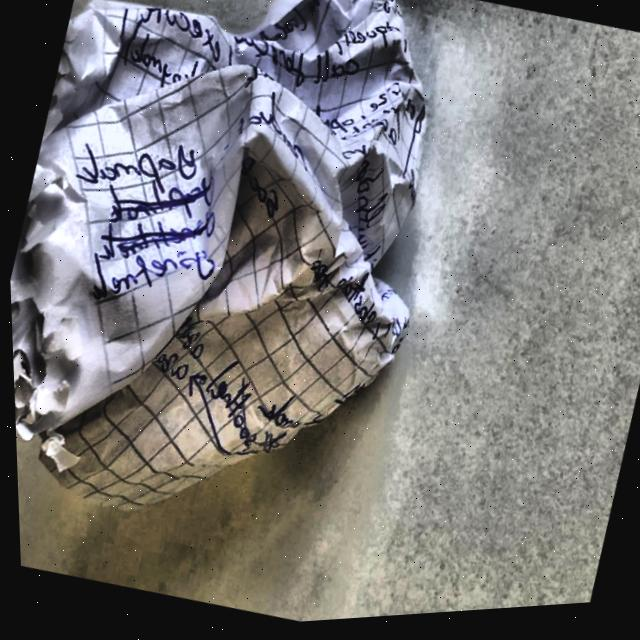paper: (0, 0, 504, 588)
